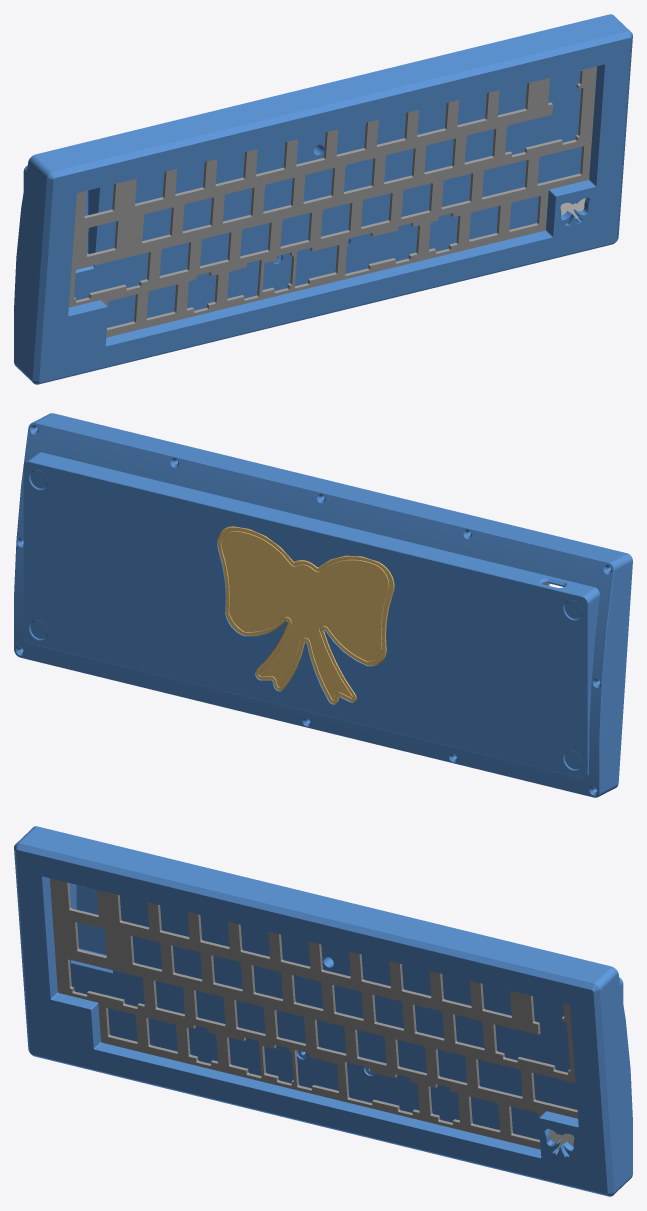
The model's file is Ribbon40.fbx.
The picture shows the model from 3 angles, top to bottom: view 1: azimuth 30°, elevation 25°; view 2: azimuth 150°, elevation 25°; view 3: azimuth 330°, elevation 25°; orthographic projection.
Visible parts, largest first — view 1: Body1 (×3); view 2: Body1 (×3); view 3: Body1 (×3).
Boxes of the visible parts, <box> form: Body1 (×3): <box>14,14,632,384</box>; Body1 (×3): <box>14,413,632,797</box>; Body1 (×3): <box>14,826,632,1196</box>.
Bounding box in the file's own units: 277 × 103 × 30.09.
